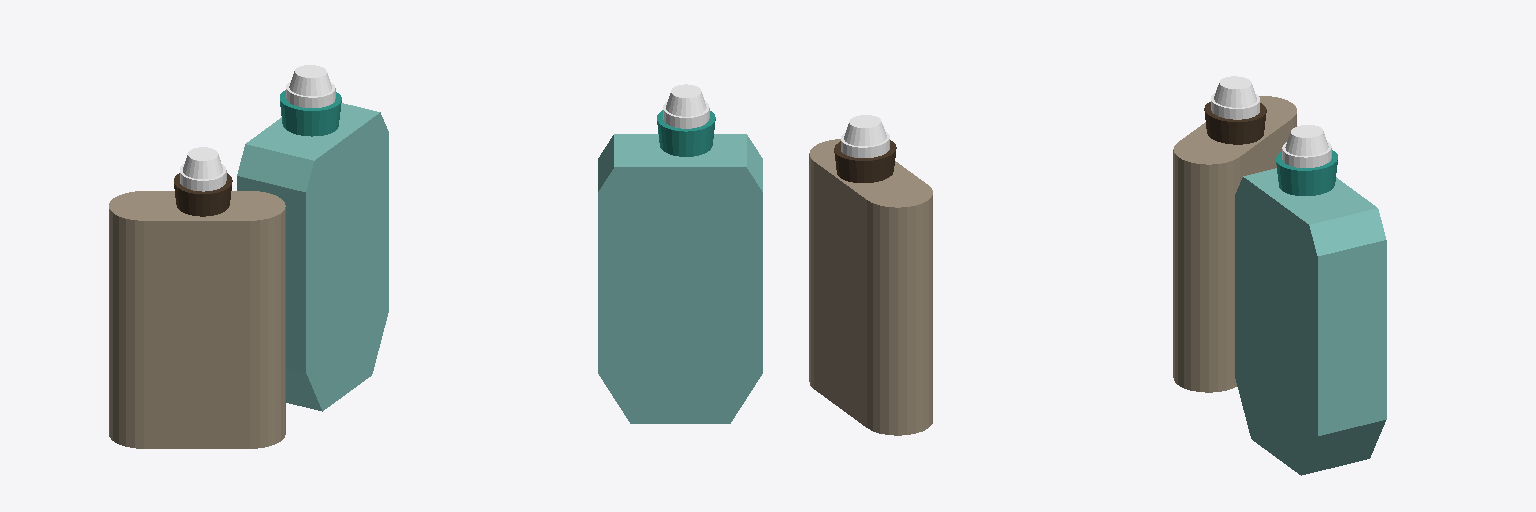
File: Shampoo-Conditioner.obj
The picture shows the model from 3 angles: view 1: azimuth 30°, elevation 25°; view 2: azimuth 150°, elevation 25°; view 3: azimuth 270°, elevation 25°; orthographic projection.
Visible parts, largest first — view 1: mergedBlocks; view 2: mergedBlocks; view 3: mergedBlocks.
Part boxes in pixels (left/top/right/bottom): mergedBlocks: left=109, top=65, right=388, bottom=448; mergedBlocks: left=598, top=84, right=932, bottom=435; mergedBlocks: left=1173, top=76, right=1386, bottom=475.
Size of the model in its own units: 0.2965 by 0.295 by 0.1805.